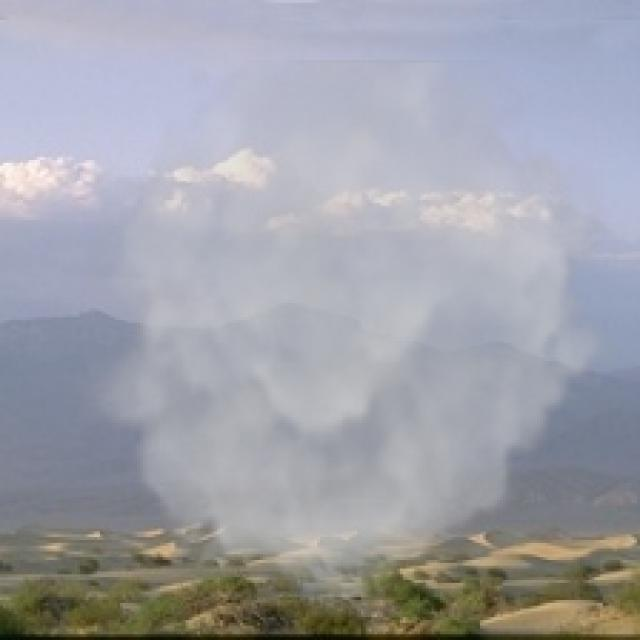smoke: (74, 60, 623, 597)
